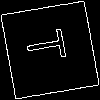T: (25, 25, 76, 64)
